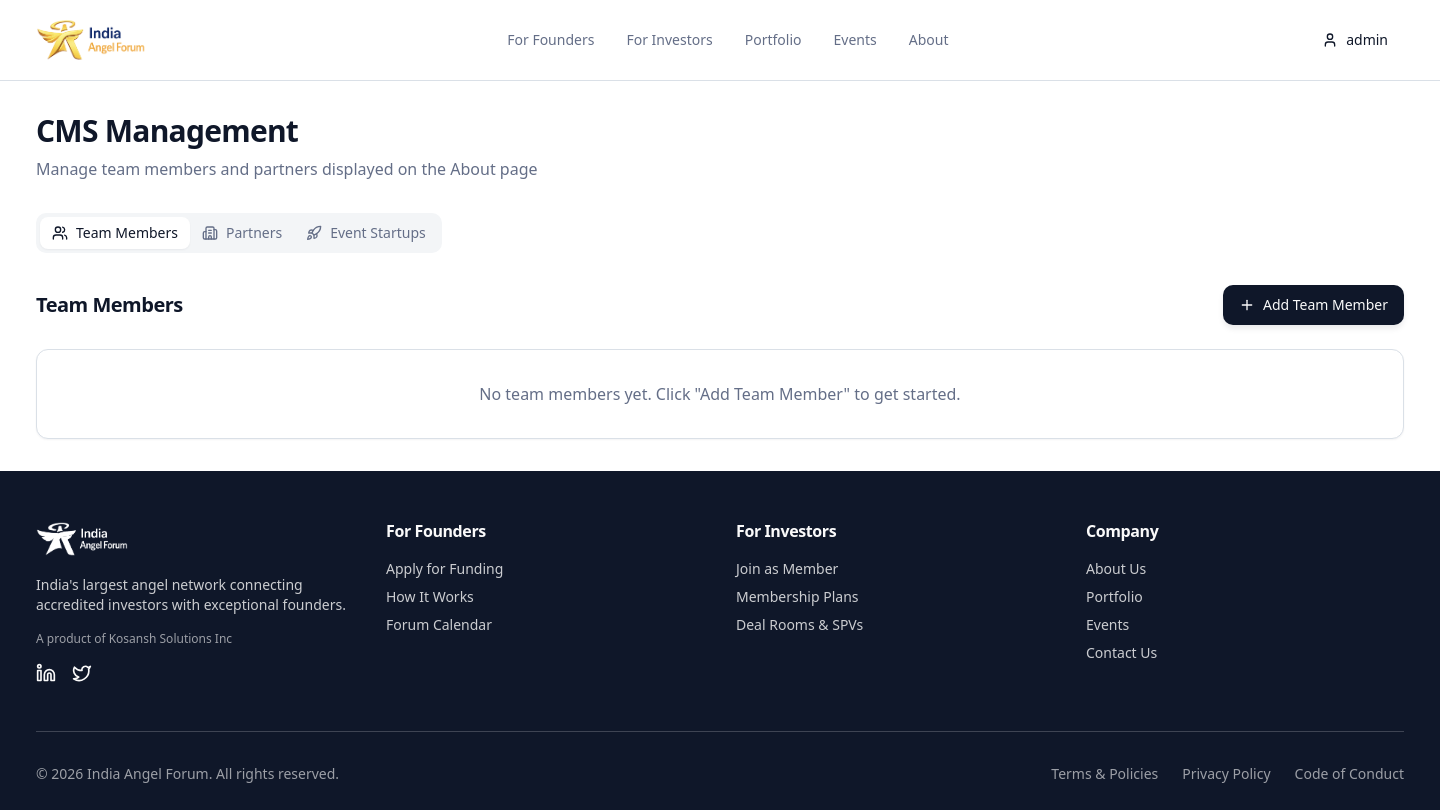
Test: US-ADMIN-CRUD-003: CMS Event Startups Tab › Create Startup › should open create form when clicking Add Startup
Click the tab "Event Startups": (366, 233) x1=294 y1=217 x2=438 y2=249
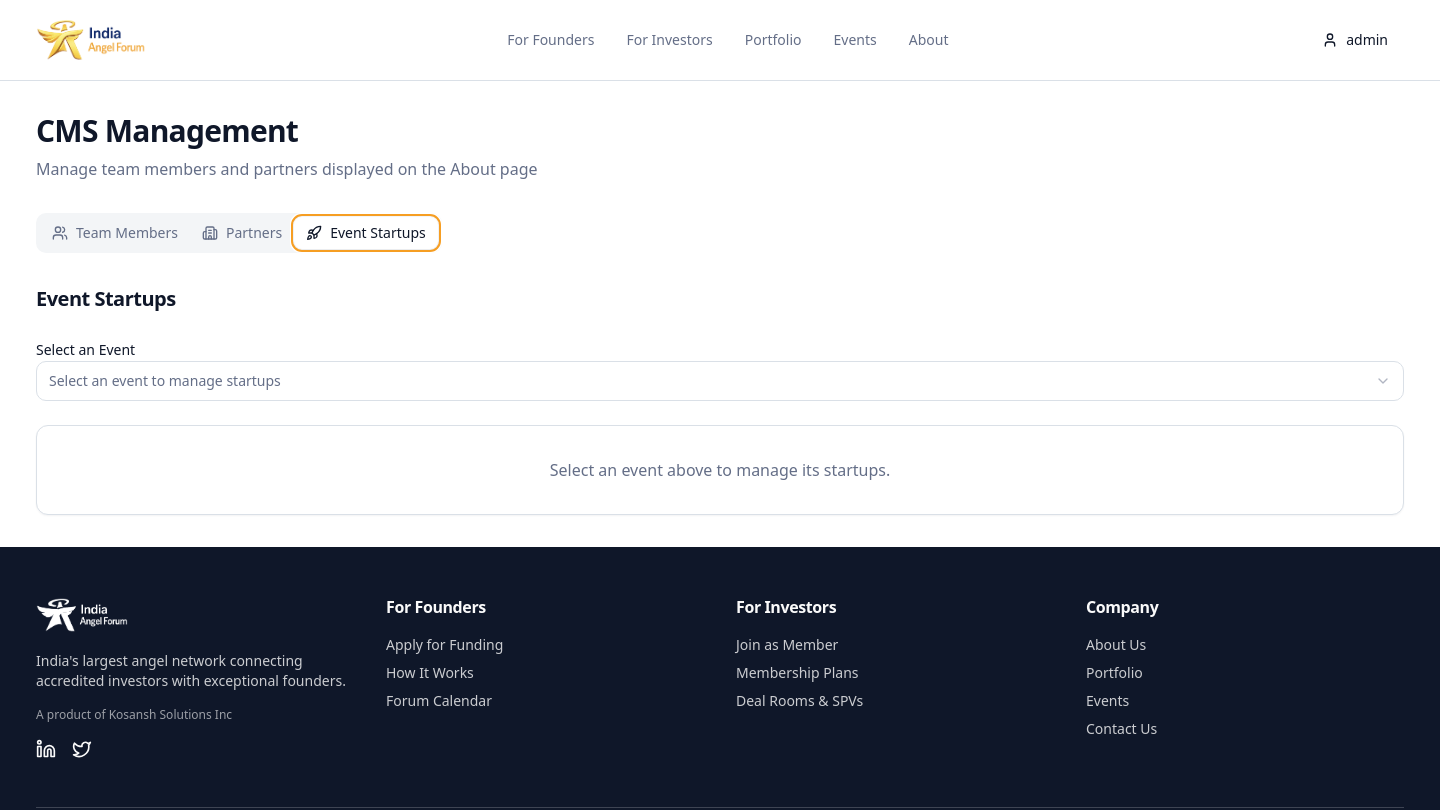
Click the dropdown: (165, 380) x1=36 y1=361 x2=1404 y2=401
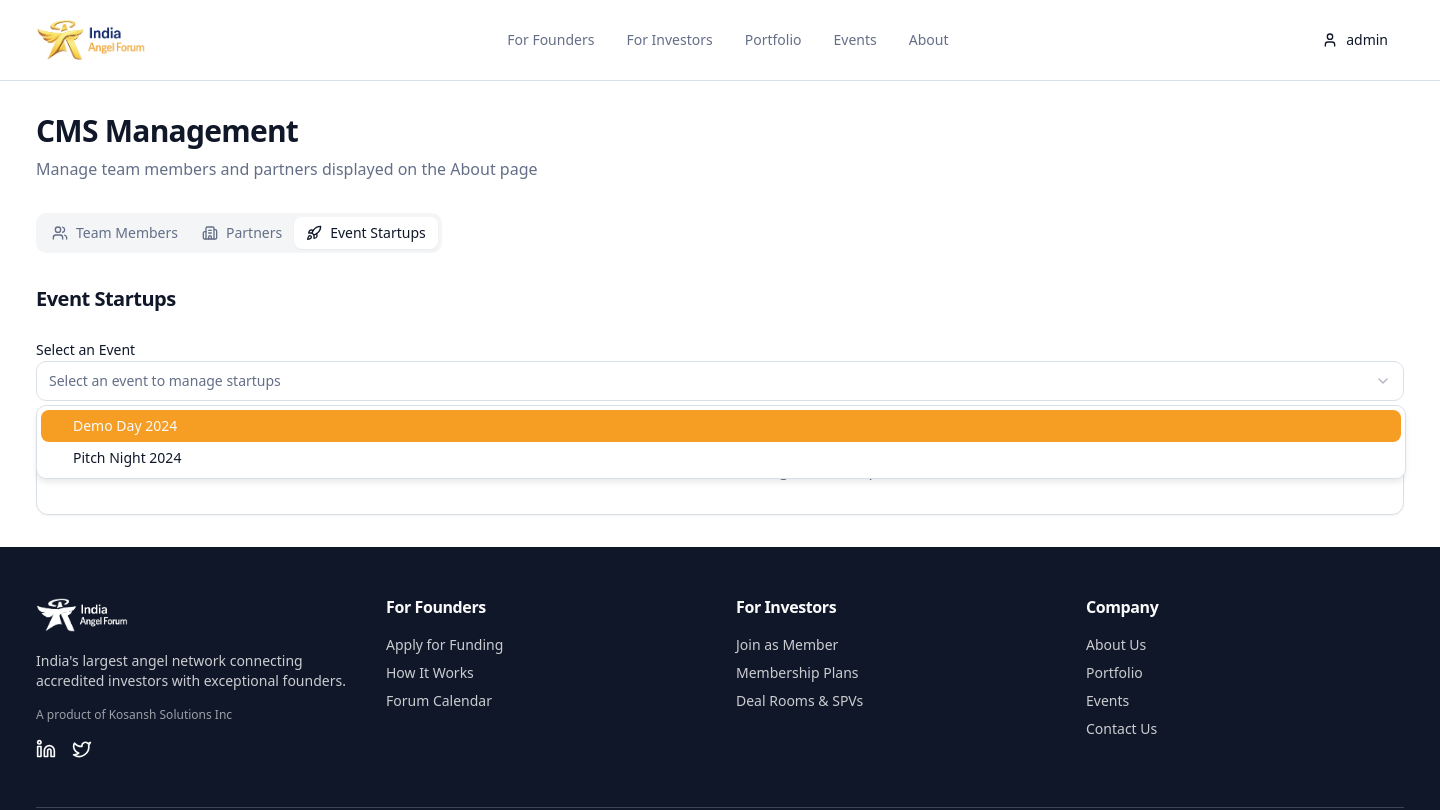
Click the option "Demo Day 2024": (125, 426) x1=41 y1=410 x2=1401 y2=442
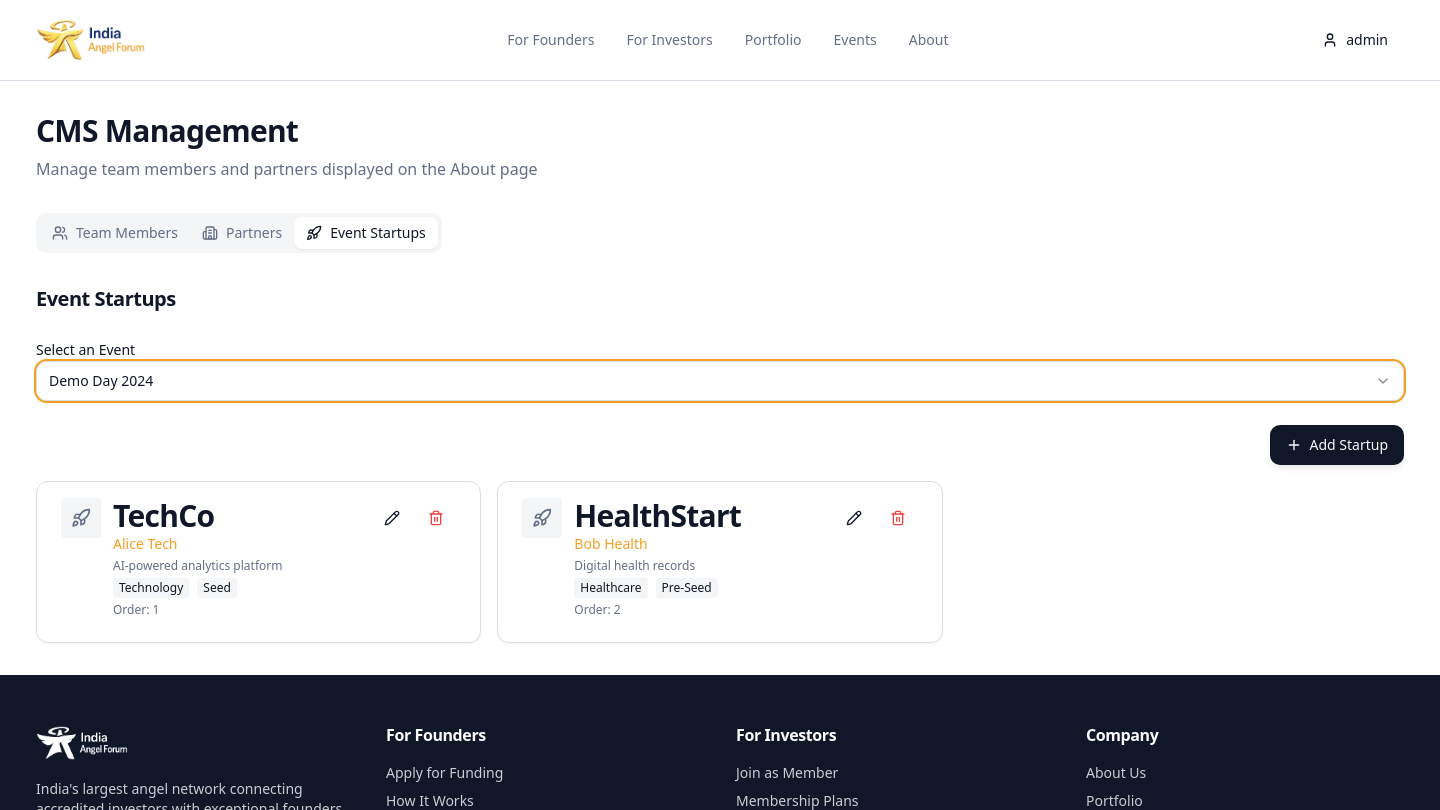
Expected: the button "Add Startup" is shown
Click the button "Add Startup": (1337, 445) x1=1270 y1=425 x2=1404 y2=465
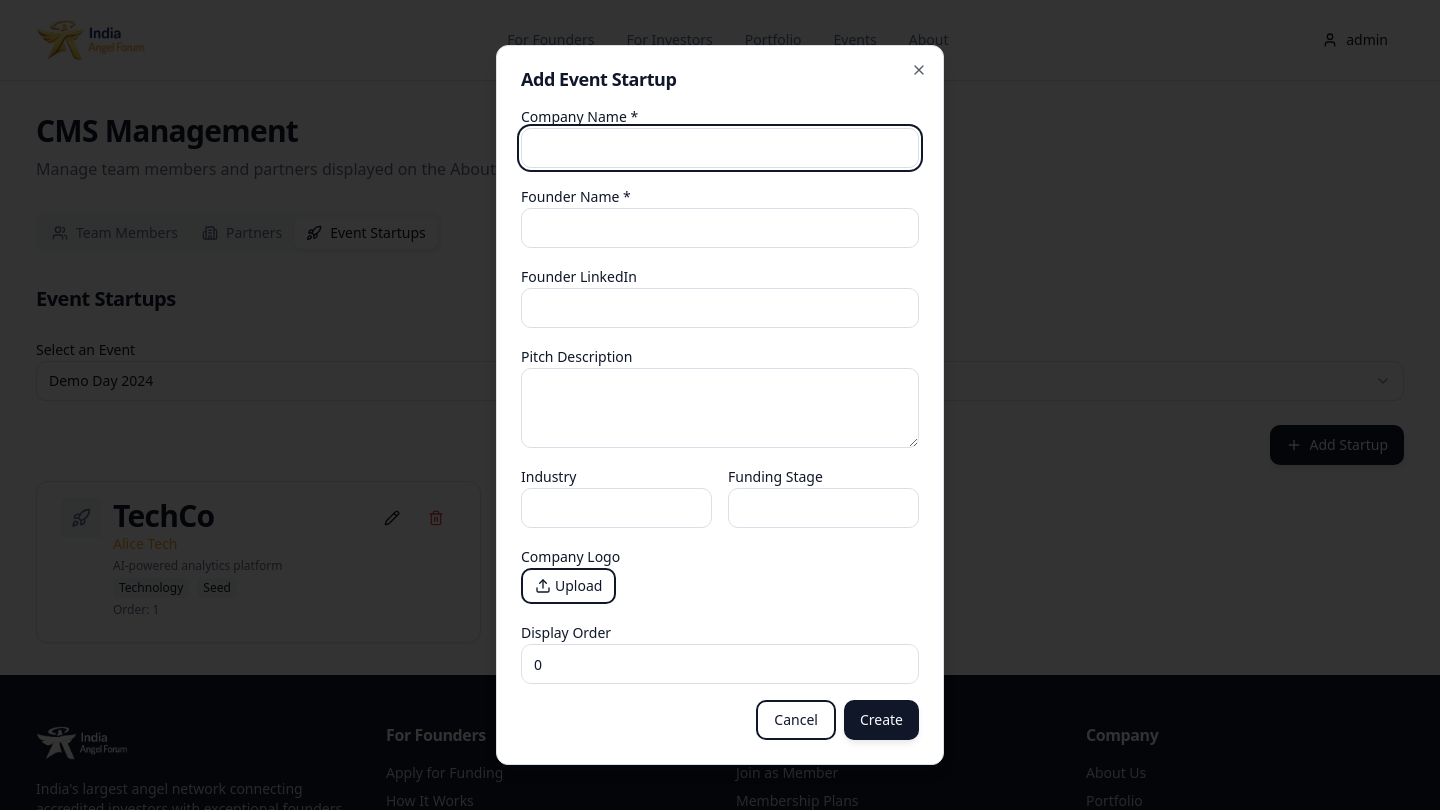
Expected: the dialog is shown, x1=496 y1=45 x2=944 y2=765
Expected: the field labelled "Company Name *" is shown, x1=521 y1=128 x2=919 y2=168
Expected: the field labelled "Founder Name *" is shown, x1=521 y1=208 x2=919 y2=248
